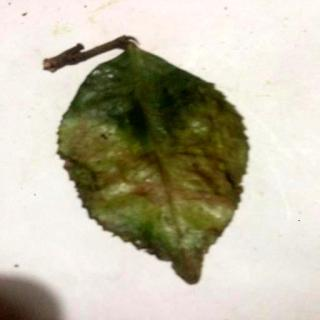Red Leaf Spot: (59, 45, 248, 285)
